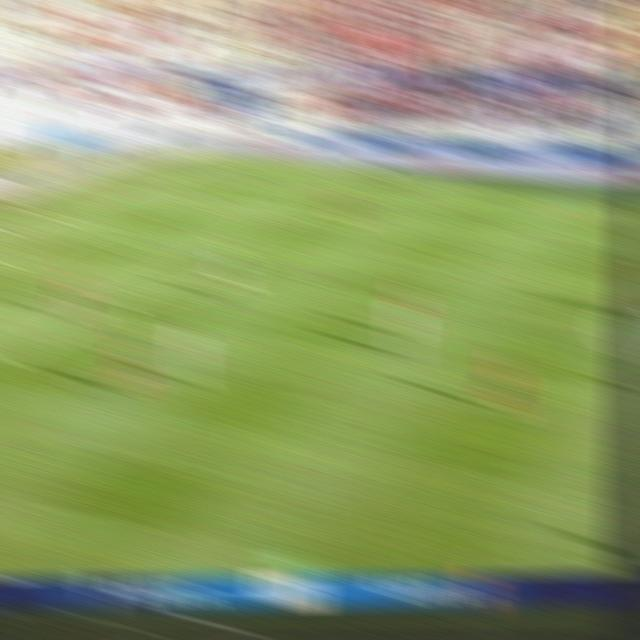bigarea_top_inner: (278, 196, 308, 217)
bigarea_top_outter: (104, 178, 134, 198)
bottom_arc_area_intersection: (98, 288, 133, 312)
corner: (178, 152, 211, 170)
smallarea_top_inner: (82, 213, 114, 233)
smallarea_top_outter: (25, 202, 58, 225)
top_arc_area_intersection: (210, 232, 242, 254)
